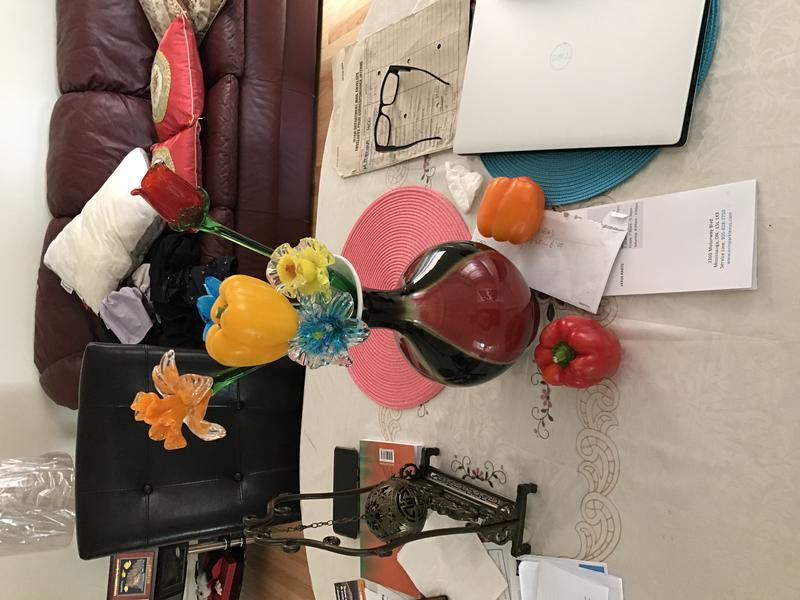orange_pepper: (468, 168, 553, 252)
red_pepper: (535, 311, 624, 395)
yellow_pepper: (200, 270, 306, 374)
